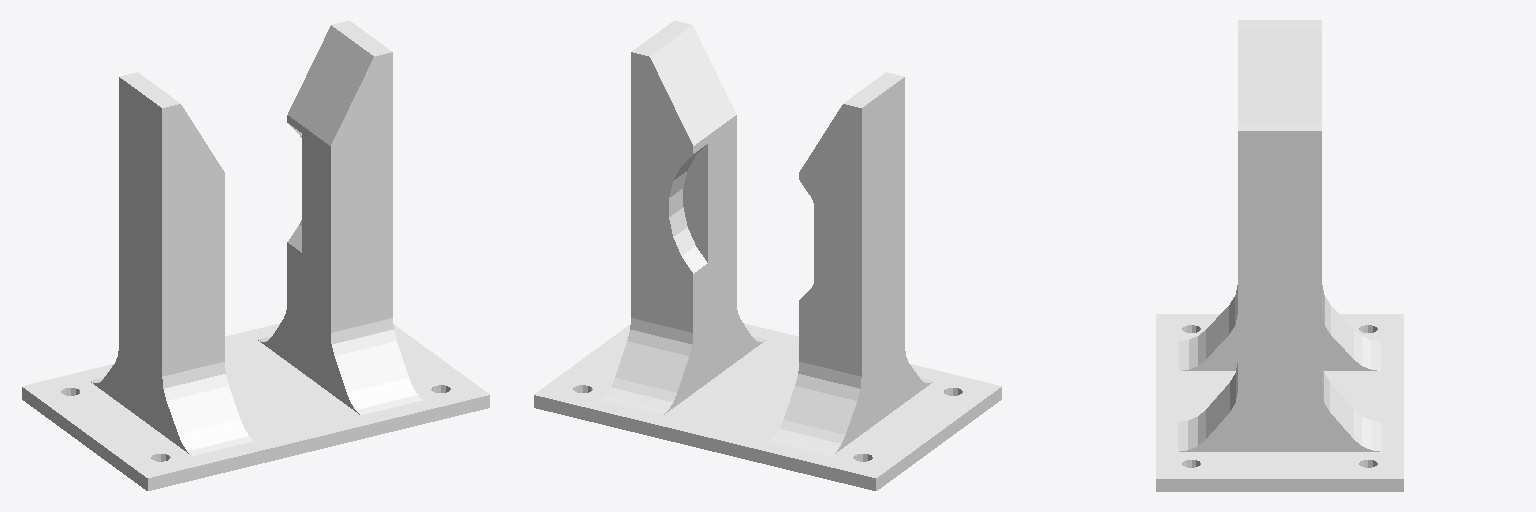
robot.urdf — Tool_Stick_holder:
<?xml version="1.0" encoding="utf-8"?>
<!-- This URDF was automatically created by SolidWorks to URDF Exporter! Originally created by [author] ([email redacted]) 
     Commit Version: 1.6.0-1-g15f4949  Build Version: 1.6.7594.29634
     For more information, please see http://wiki.ros.org/sw_urdf_exporter -->
<robot
  name="Tool_Stick_holder">
  <link
    name="base_link">
    <inertial>
      <origin
        xyz="5.4328E-05 -0.00021215 0.035446"
        rpy="0 0 0" />
      <mass
        value="0.1248" />
      <inertia
        ixx="0.0001414"
        ixy="-1.4383E-09"
        ixz="1.5081E-07"
        iyy="0.00022858"
        iyz="6.236E-07"
        izz="0.00012456" />
    </inertial>
    <visual>
      <origin
        xyz="0 0 0"
        rpy="0 0 0" />
      <geometry>
        <mesh
          filename="package://Tool_Stick_holder/meshes/base_link.STL" />
      </geometry>
      <material
        name="">
        <color
          rgba="1 1 1 1" />
      </material>
    </visual>
    <collision>
      <origin
        xyz="0 0 0"
        rpy="0 0 0" />
      <geometry>
        <mesh
          filename="package://Tool_Stick_holder/meshes/base_link.STL" />
      </geometry>
    </collision>
  </link>
</robot>

--- What the picture shows (computed from the rendered views, not written in the file) ---
The picture shows the robot from 3 angles, left to right: view 1: azimuth 30°, elevation 25°; view 2: azimuth 150°, elevation 25°; view 3: azimuth 270°, elevation 25°; orthographic projection.
Model Tool_Stick_holder with 1 links and 0 joints (none), rooted at base_link, posed all joints at 0.
Links seen in each view (by area): view 1: base_link; view 2: base_link; view 3: base_link.
Boxes of the visible links, <box> form: base_link: <box>22,21,489,490</box>; base_link: <box>534,21,1001,490</box>; base_link: <box>1156,20,1403,491</box>.
Bounding box of the posed robot: 0.11 × 0.07 × 0.104 m (x, y, z).
Meshes: 1 distinct files referenced, 1 mesh visuals loaded (1 binary STL).